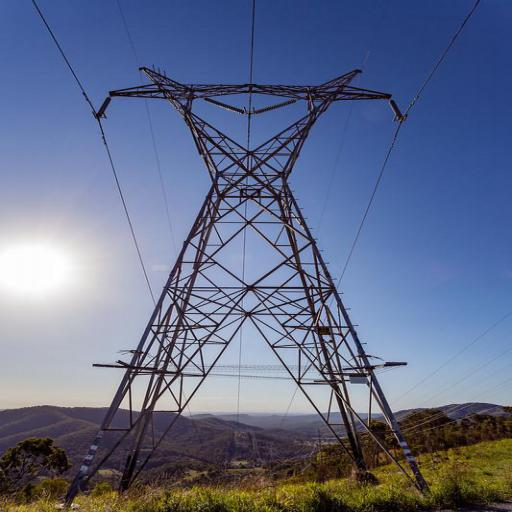wt_5: (90, 62, 432, 495)
